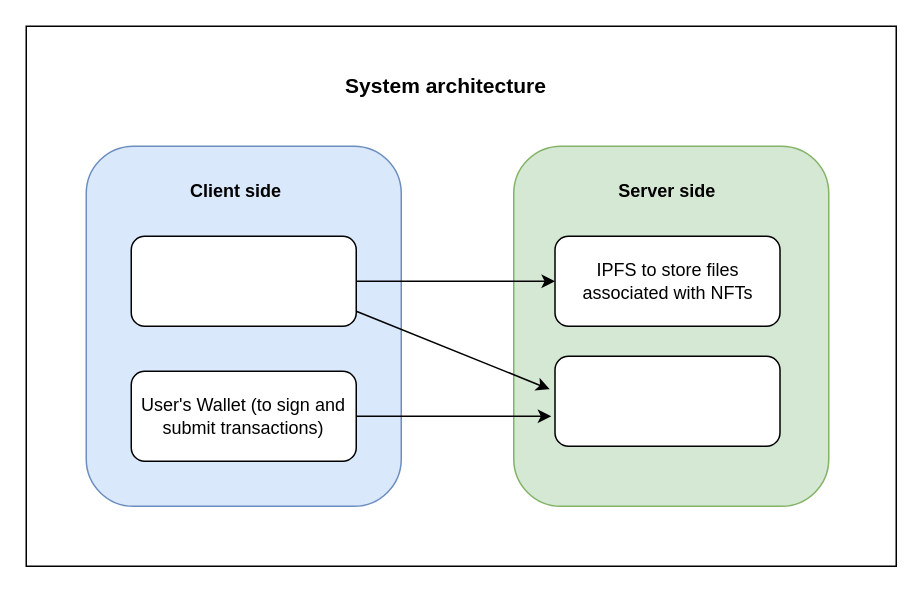
Image size: 923x593. Some labels were removed from this diagram. Each missing label, with the centre of its shape:
"Marketplace client (UI for working with marketplace)" belongs at pixel 243 280.
"NFT Marketplace PAB for NFT creation and transactions" belongs at pixel 667 400.
